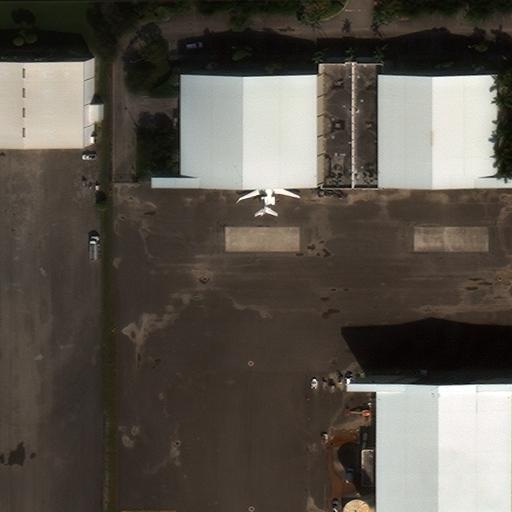Medium Civil Transport: (238, 174, 299, 213)
